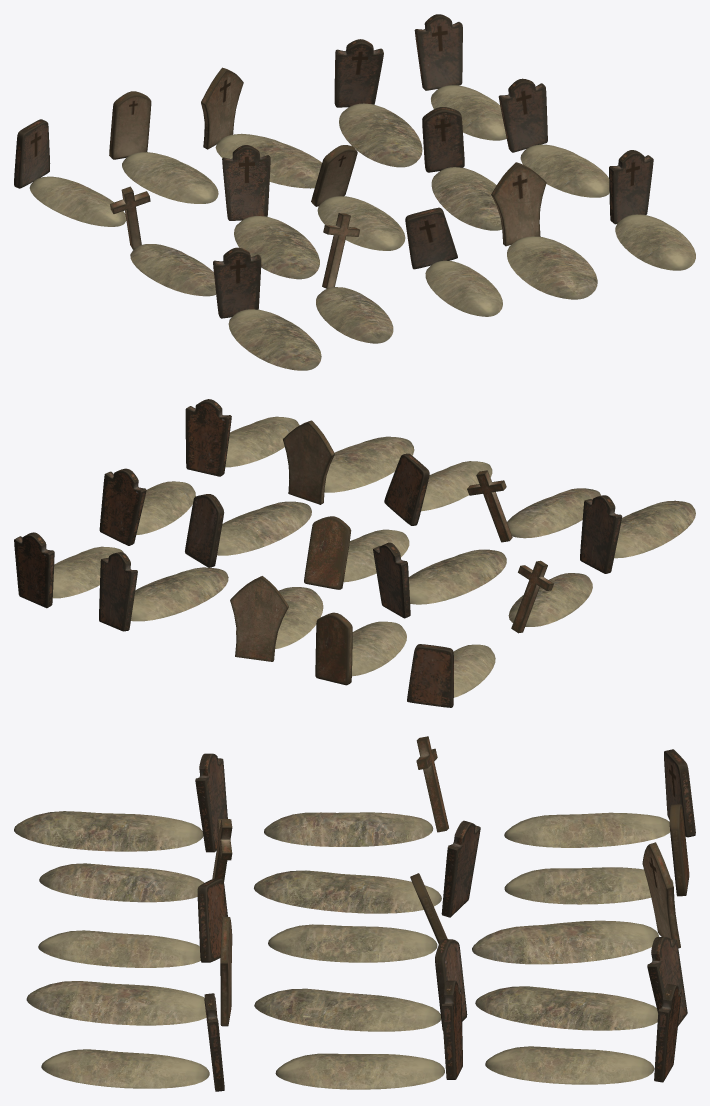
File: cemetery.glb
The picture shows the model from 3 angles, top to bottom: view 1: azimuth 30°, elevation 25°; view 2: azimuth 150°, elevation 25°; view 3: azimuth 270°, elevation 25°; orthographic projection. The views are drawn at different scales.
Visible parts, largest first — view 1: mound_13, mound_10, mound_3, mound_6, mound_1, mound_14, stone_13, mound_8, stone_6, stone_4, mound_9, mound_11 (+18 smaller); view 2: stone_2, mound_6, mound_3, mound_8, mound_13, mound_10, stone_13, stone_14, stone_7, stone_9, mound_11, stone_0 (+18 smaller); view 3: mound_2, mound_13, mound_10, mound_3, mound_8, mound_6, mound_7, mound_4, mound_14, mound_9, mound_5, mound_11 (+18 smaller).
Part boxes in pixels (<box>): mound_13: <box>507,236,597,299</box>; mound_10: <box>228,309,321,370</box>; mound_3: <box>339,103,422,167</box>; mound_6: <box>234,216,319,279</box>; mound_1: <box>122,152,218,203</box>; mound_14: <box>615,214,695,270</box>; stone_13: <box>491,162,546,246</box>; mound_8: <box>431,167,502,230</box>; stone_6: <box>222,145,270,220</box>; stone_4: <box>414,14,462,90</box>; mound_9: <box>520,144,609,197</box>; mound_11: <box>316,287,393,343</box>; stone_2: <box>230,576,288,661</box>; mound_6: <box>409,549,506,604</box>; mound_3: <box>131,567,228,621</box>; mound_8: <box>217,501,311,555</box>; mound_13: <box>324,436,414,492</box>; mound_10: <box>614,500,695,558</box>; stone_13: <box>283,420,334,504</box>; stone_14: <box>185,399,231,476</box>; stone_7: <box>304,516,351,589</box>; stone_9: <box>99,468,146,545</box>; mound_11: <box>507,488,600,538</box>; stone_0: <box>407,644,453,707</box>; mound_2: <box>472,920,658,964</box>; mound_13: <box>26,981,206,1025</box>; mound_10: <box>14,811,203,851</box>; mound_3: <box>475,986,657,1030</box>; mound_8: <box>254,988,441,1031</box>; mound_6: <box>254,870,441,913</box>; mound_7: <box>268,924,437,962</box>; mound_4: <box>485,1046,654,1084</box>; mound_14: <box>41,1049,209,1088</box>; mound_9: <box>275,1053,444,1089</box>; mound_5: <box>264,812,433,846</box>; mound_11: <box>39,863,203,902</box>.
Size of the model in its own units: 9.32 by 1.57 by 9.65.
Materials: 1 (1 with a texture image).
